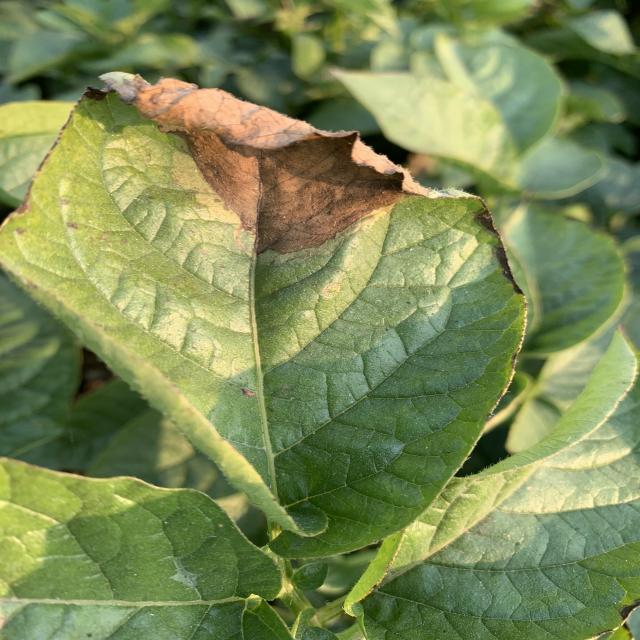lateblight: (100, 72, 428, 252), (420, 189, 513, 282)
